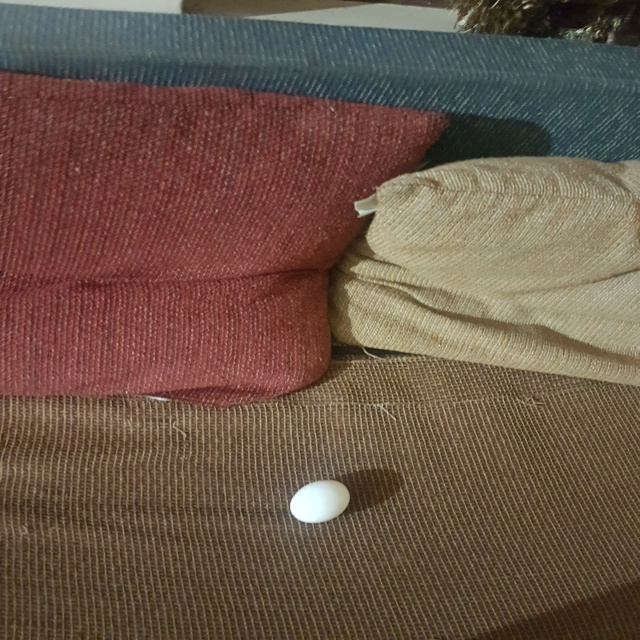eggs: (283, 475, 355, 527)
